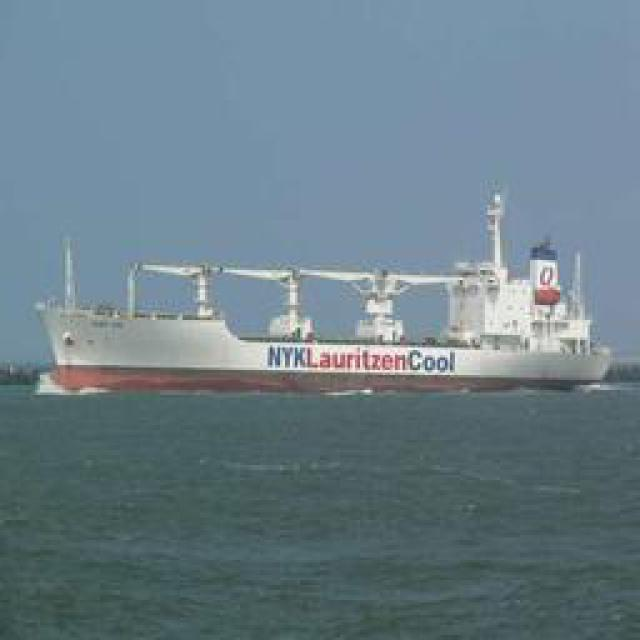Ship: (37, 206, 610, 391)
